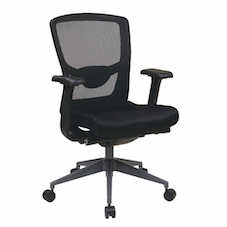chair: (22, 2, 196, 224)
